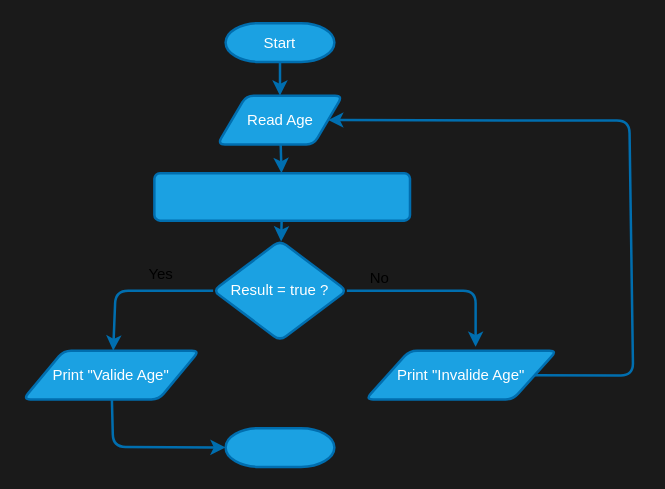
Image size: 665x489. Some labels were removed from this diagram. Each missing label, with the centre of its shape:
End: point 279,447
Result = (Age >= 18 And Age <= 45): point 281,196
